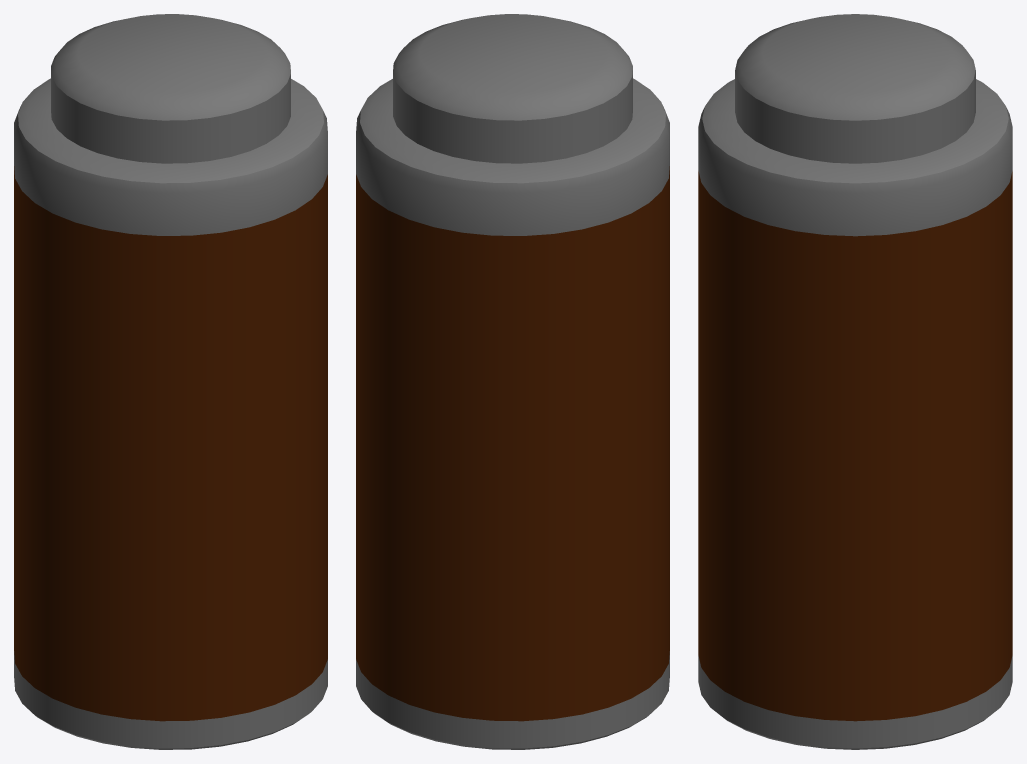
Rendered from Batterie.fbx.
The picture shows the model from 3 angles, left to right: view 1: azimuth 30°, elevation 25°; view 2: azimuth 150°, elevation 25°; view 3: azimuth 270°, elevation 25°; orthographic projection.
Parts seen in each view (by area): view 1: Cylinder; view 2: Cylinder; view 3: Cylinder.
Boxes of the visible parts, x1,y1,x2,y2 form: Cylinder: (14,14,327,749); Cylinder: (356,14,669,749); Cylinder: (698,14,1012,749).
Size of the model in its own units: 200 by 443 by 200.
